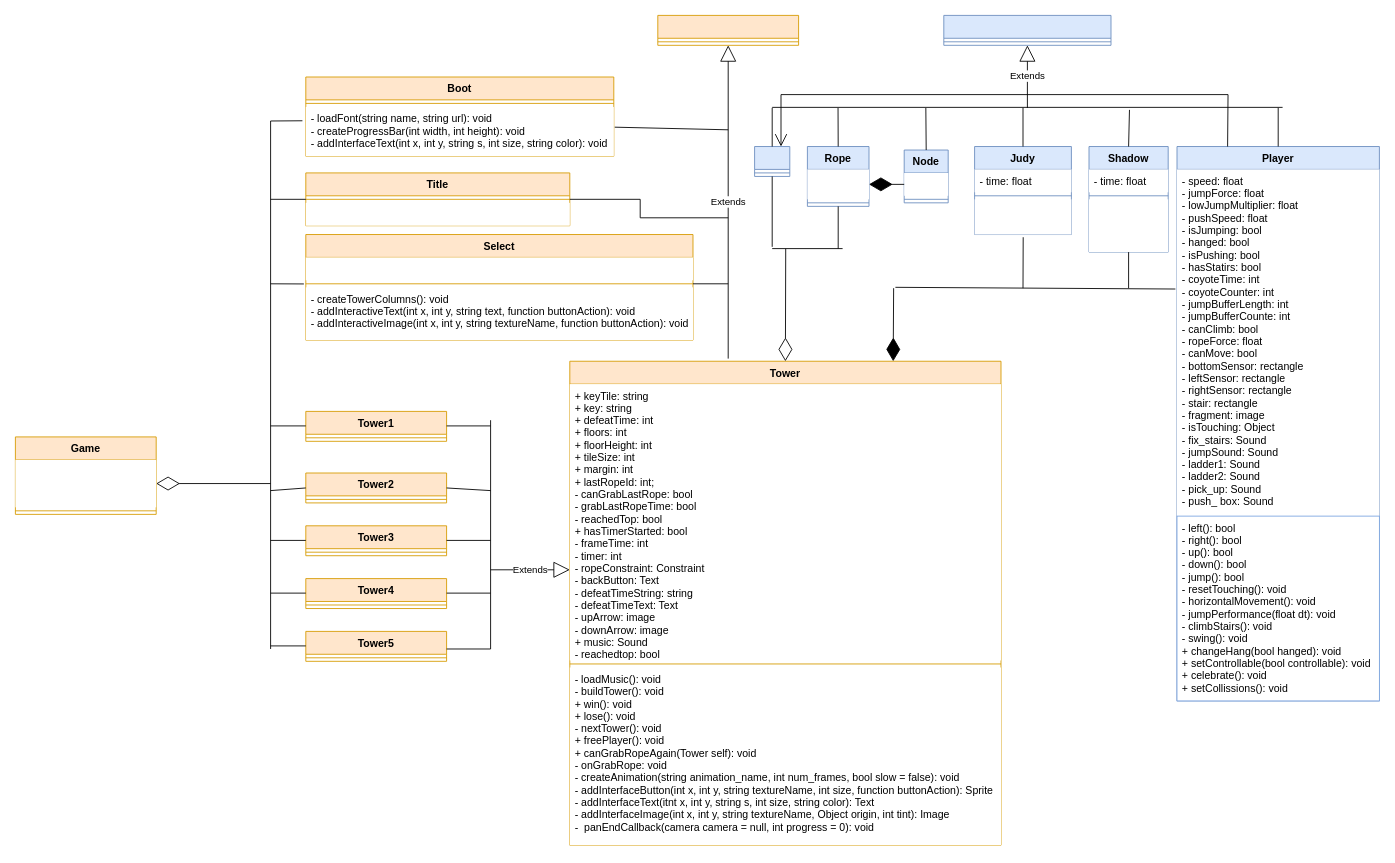
The diagram is 1395 pixels wide and 863 high, and some of its shapes have lost their labels. Here are the shapes that lost their labels. From the top down, the centre of each, then its label:
At point (728, 30): "Phaser.Scene".
At point (1027, 30): "Phaser.Physics.Matter.Sprite".
At point (772, 161): "Box".
At point (838, 184): "- length: int + id: int".
At point (926, 183): "+ id: int".
At point (437, 213): "- write(int x, int y, string text, Object fontOptions): Text".
At point (1022, 216): "+ fall(): void +celebrate(): void".
At point (1128, 225): "+ start(): void + kill(): void + stop(): void".
At point (499, 268): "- vertigo: Sound".
At point (85, 483): "- config: Object + levelsInfo: Object[] + audioConfig: Object".
